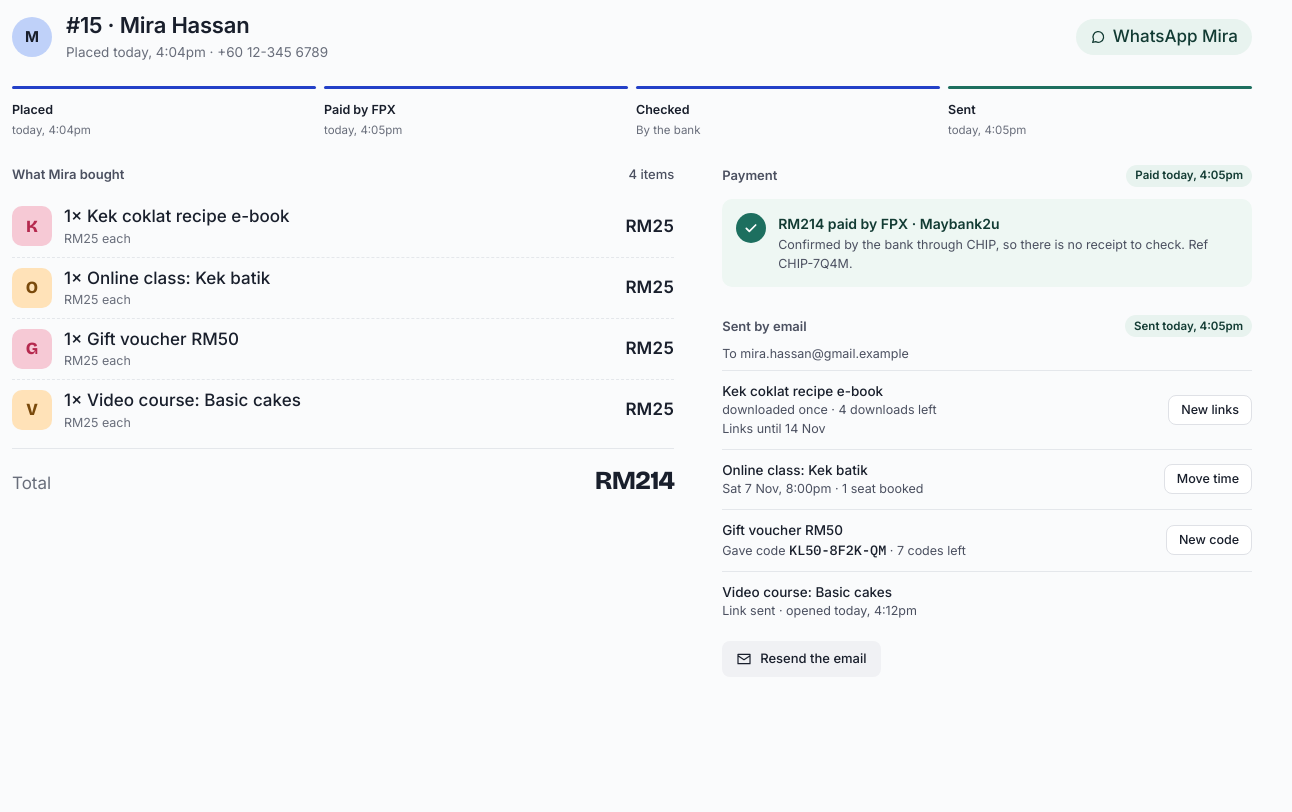
Sent by email › sends a double tap once
Click the button "New links".
click(1210, 410)  # box top-left (1168, 395), bottom-right (1252, 425)
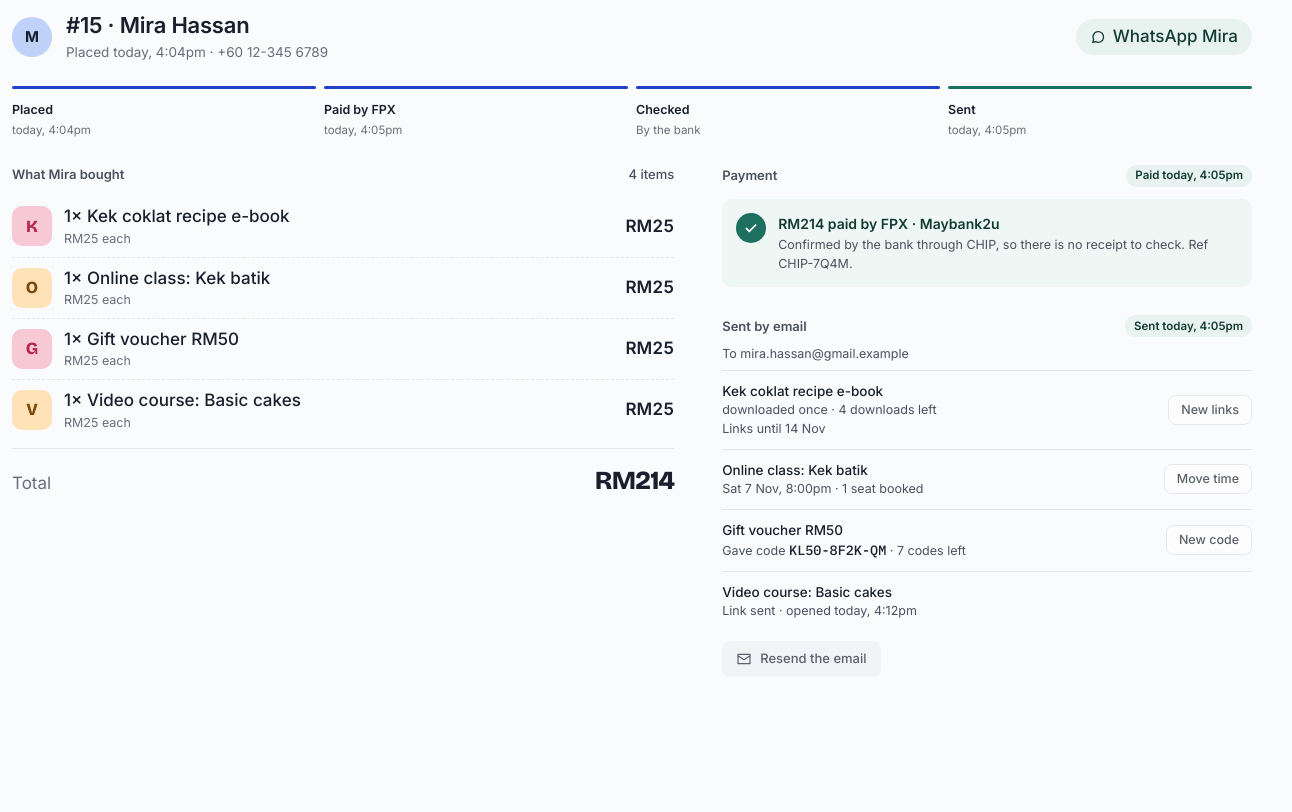
Click the button "New links".
click(1210, 410)  # box top-left (1168, 395), bottom-right (1252, 425)
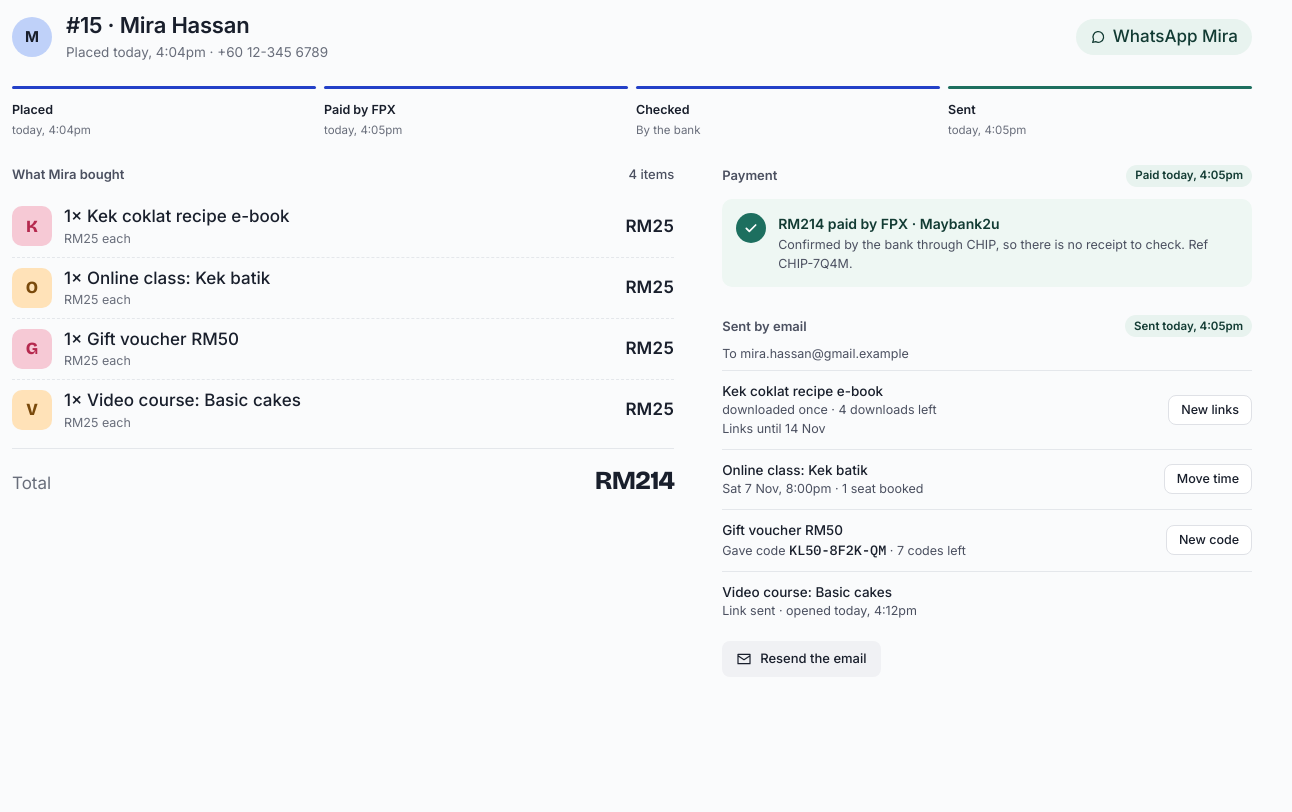
Result: the button "New links" is enabled at top-left (1168, 395), bottom-right (1252, 425)
